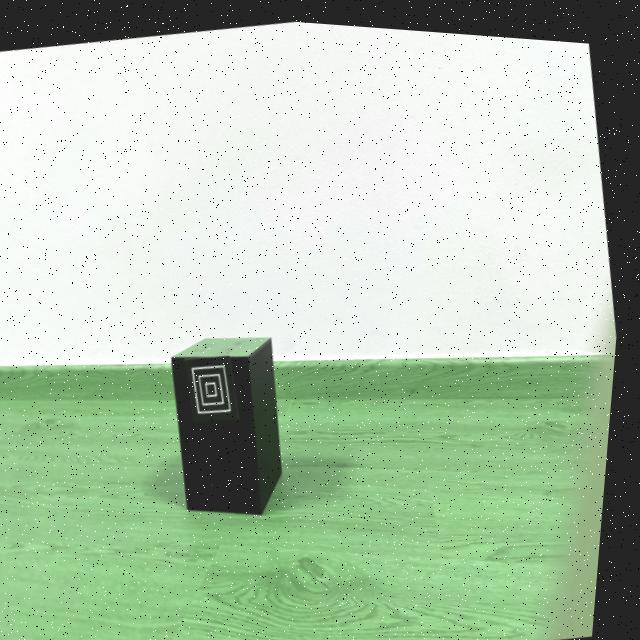BULLSEYE: (190, 351, 246, 420)
